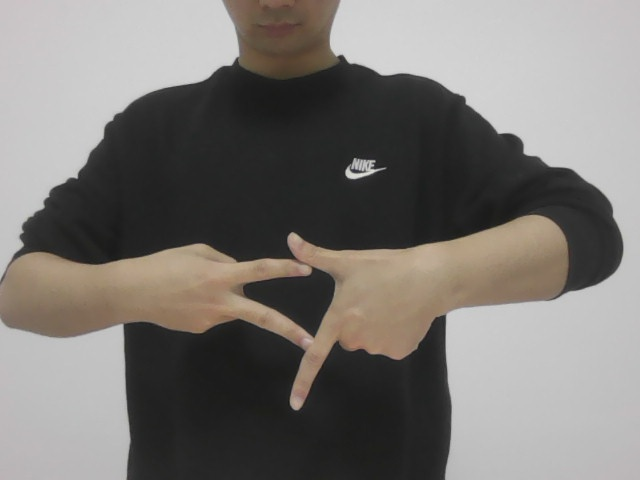introduce: (131, 228, 445, 419)
